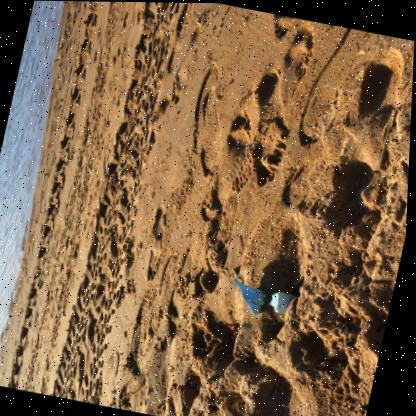Waste: (236, 275, 269, 313), (271, 290, 298, 311), (229, 322, 240, 337)
